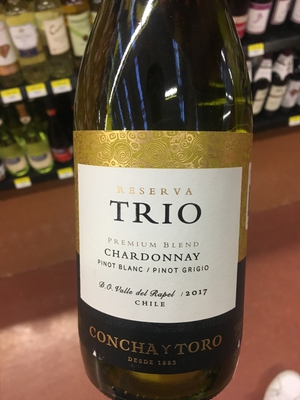trio chardonnay: (66, 31, 258, 395)
